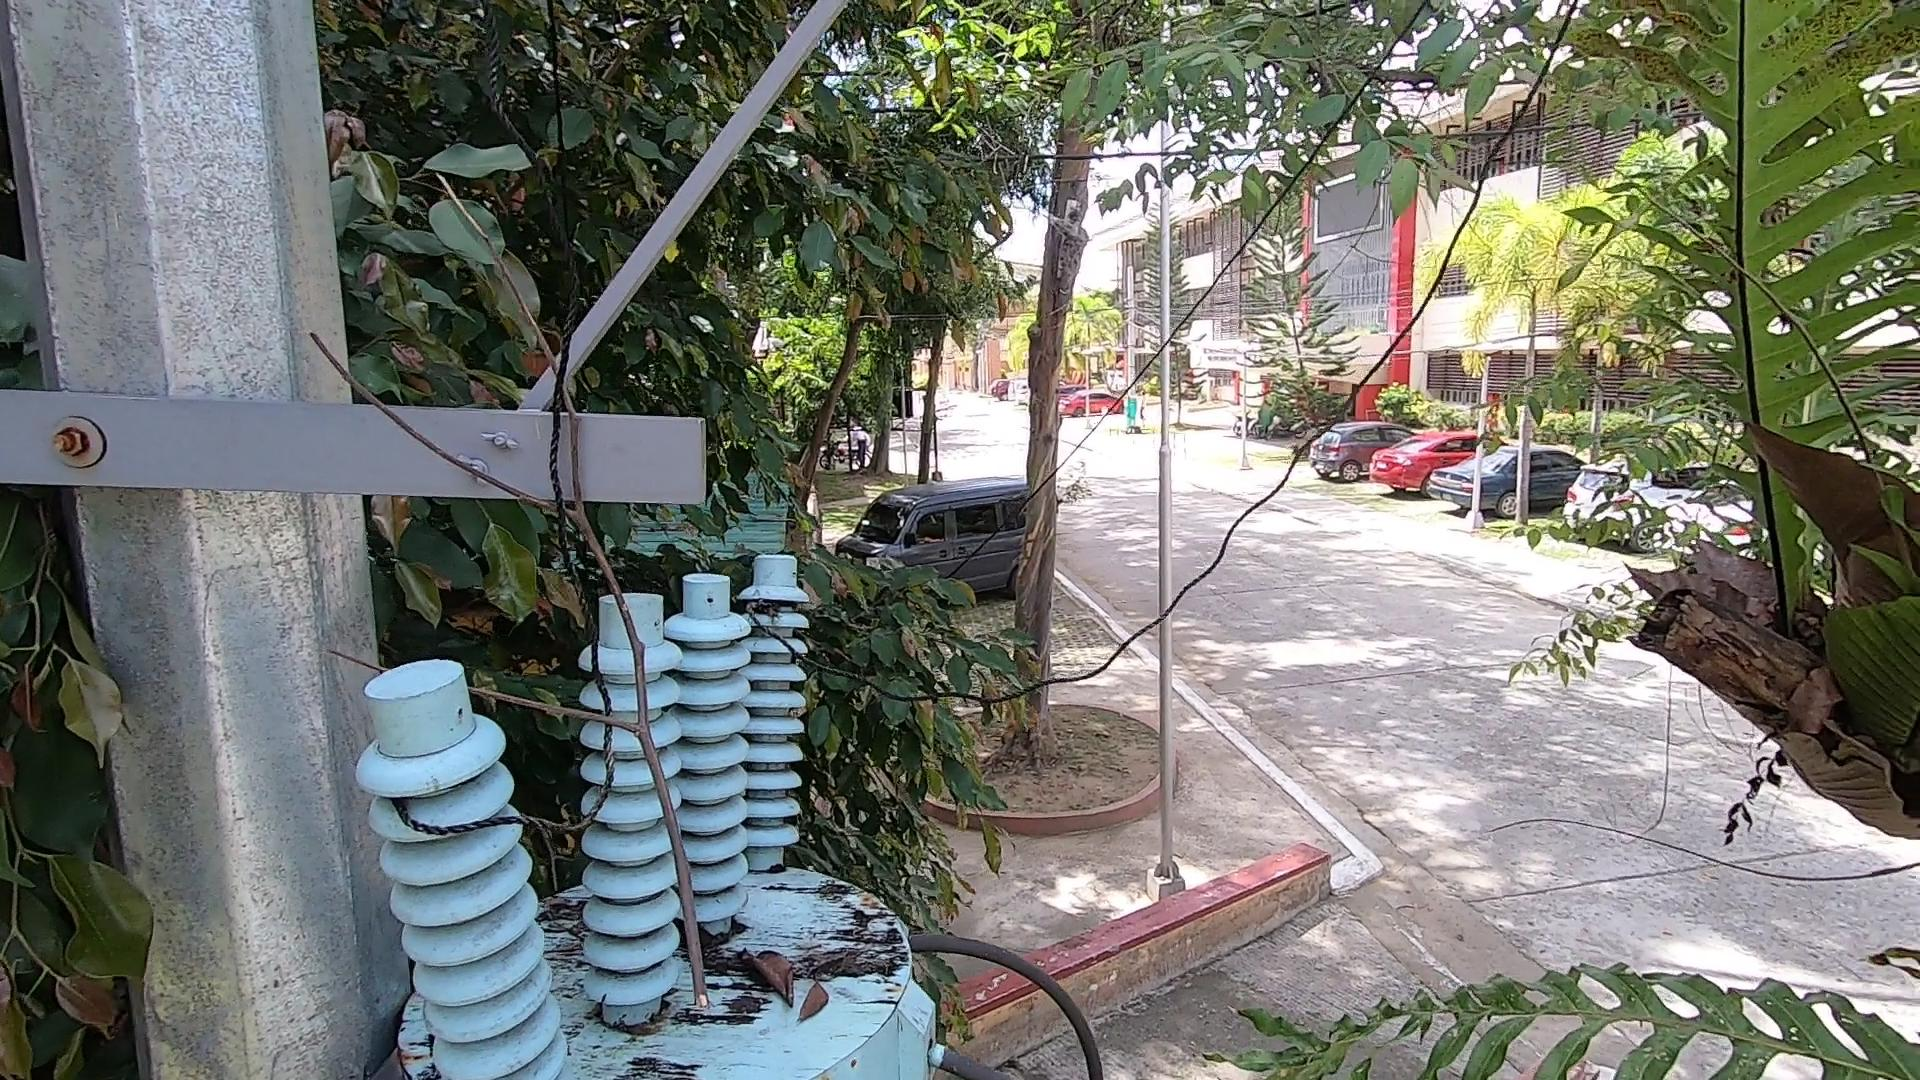leaf: (736, 939, 799, 1011), (794, 982, 837, 1033)
tree branch: (309, 284, 731, 1014)
